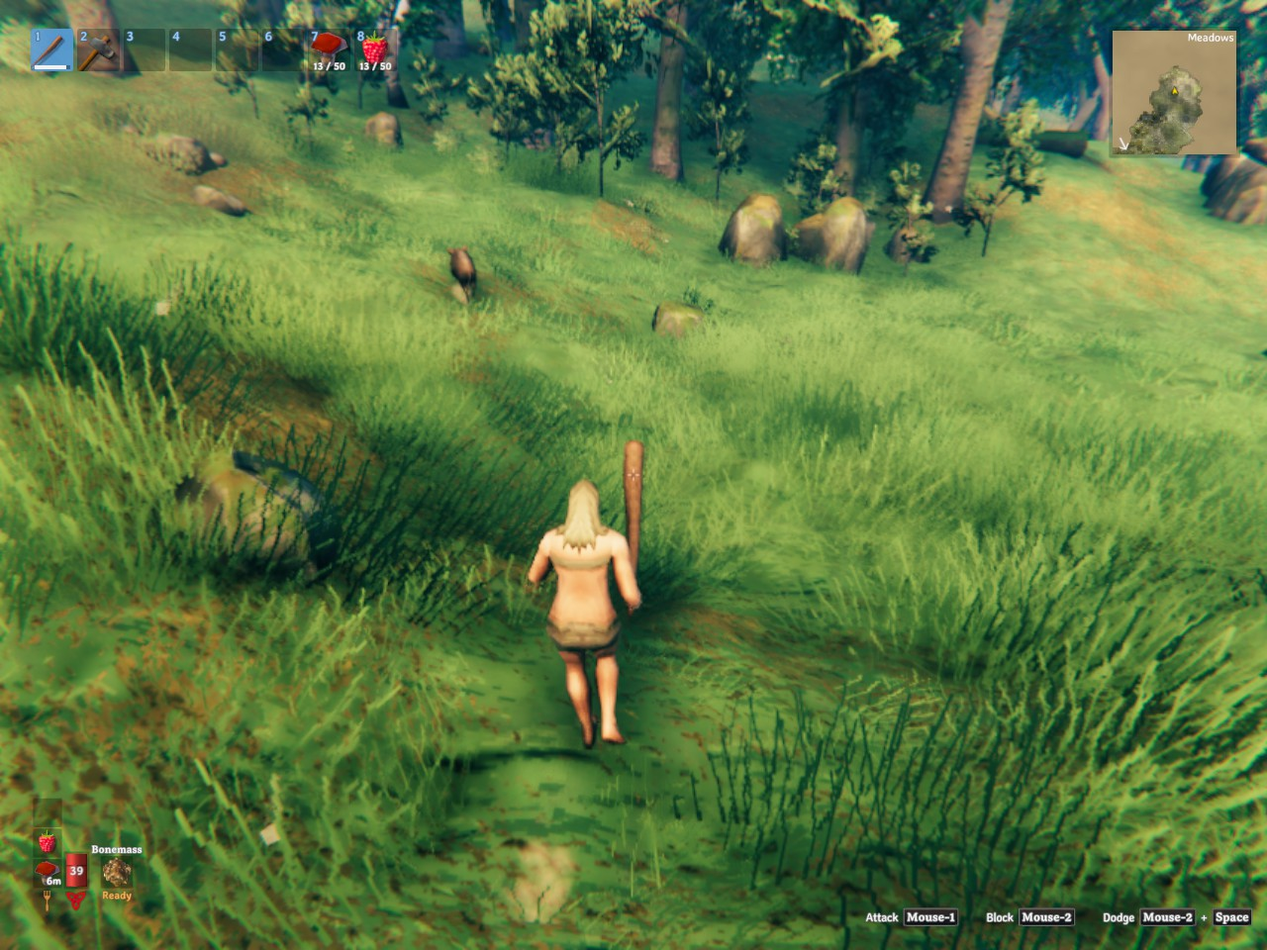Boar: (447, 246, 476, 300)
